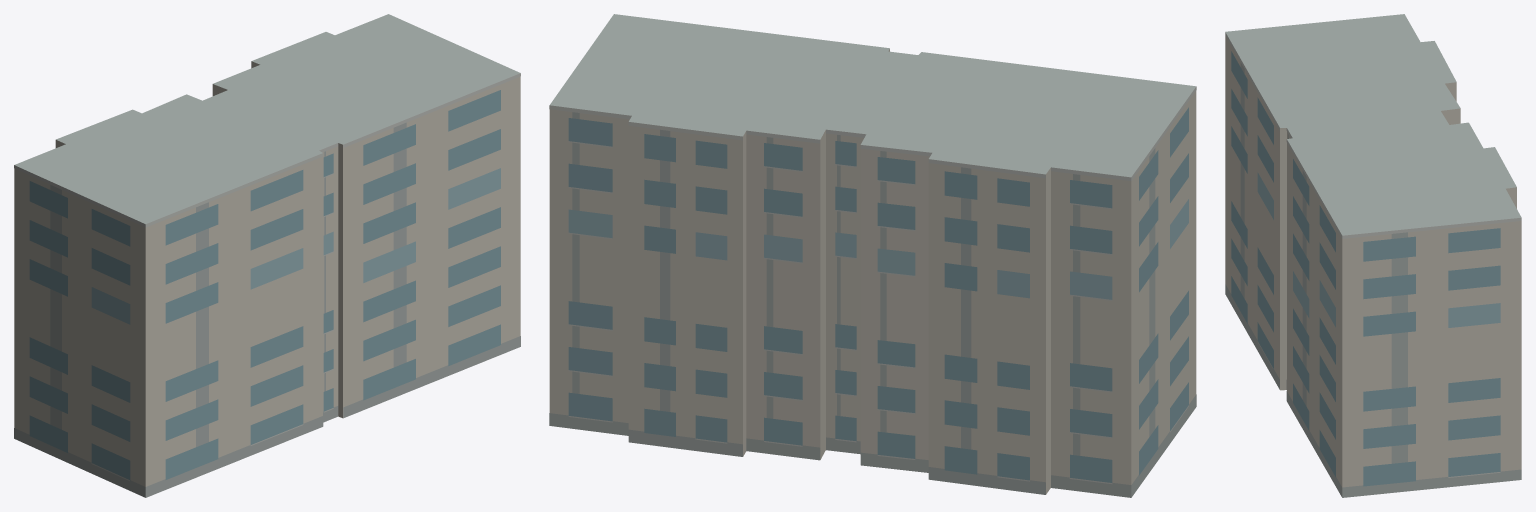
Rendered from survey-upis-32837105.glb.
3 renders of one model, left to right at view 1: azimuth 30°, elevation 25°; view 2: azimuth 150°, elevation 25°; view 3: azimuth 270°, elevation 25°, orthographic. The views are drawn at different scales.
Visible parts, largest first — view 1: survey-upis-32837105.tmp; view 2: survey-upis-32837105.tmp; view 3: survey-upis-32837105.tmp.
Boxes of the visible parts, x1,y1,x2,y2 form: survey-upis-32837105.tmp: (14, 14, 520, 497); survey-upis-32837105.tmp: (549, 14, 1196, 497); survey-upis-32837105.tmp: (1225, 14, 1521, 497).
Size of the model in its own units: 36.3 by 20.01 by 20.52.
